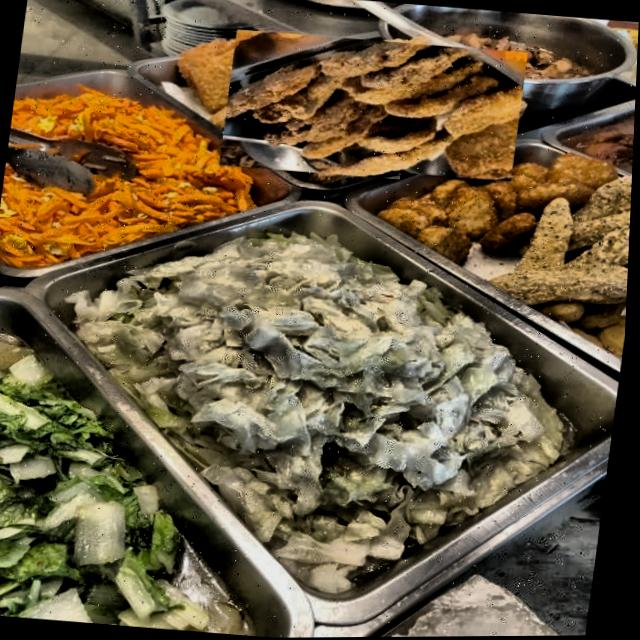Food: (193, 279, 478, 479), (218, 26, 529, 190), (0, 95, 202, 250), (394, 172, 541, 252)
